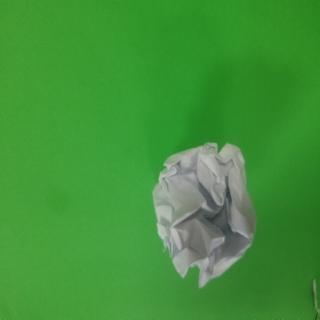8/可回收垃圾/纸: (152, 141, 255, 289)
